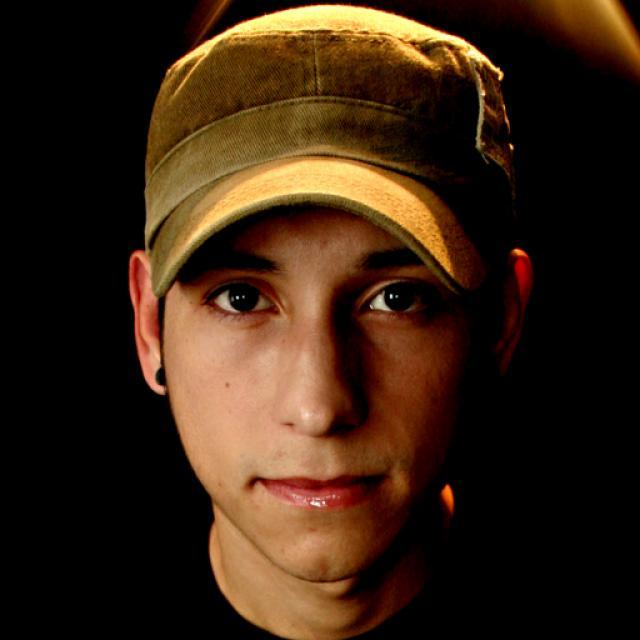neutral: (161, 190, 484, 584)
